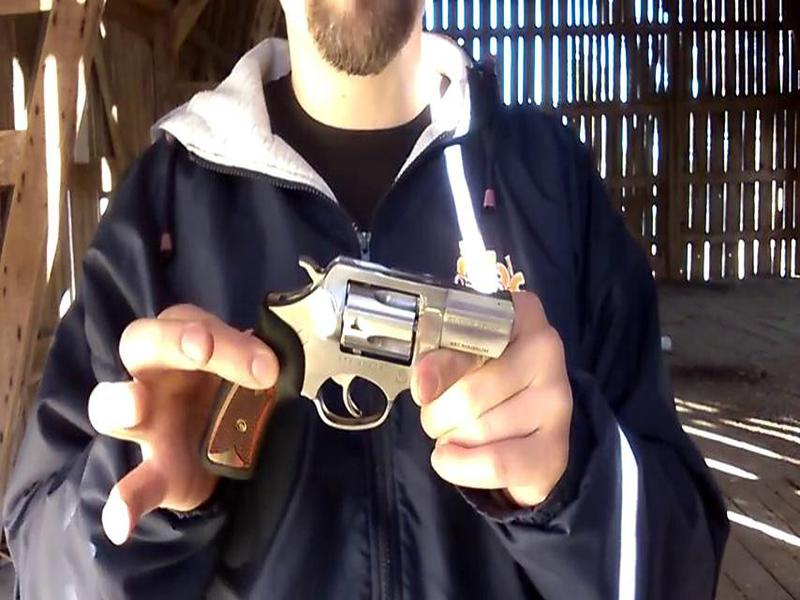Revolver: (219, 242, 519, 454)
